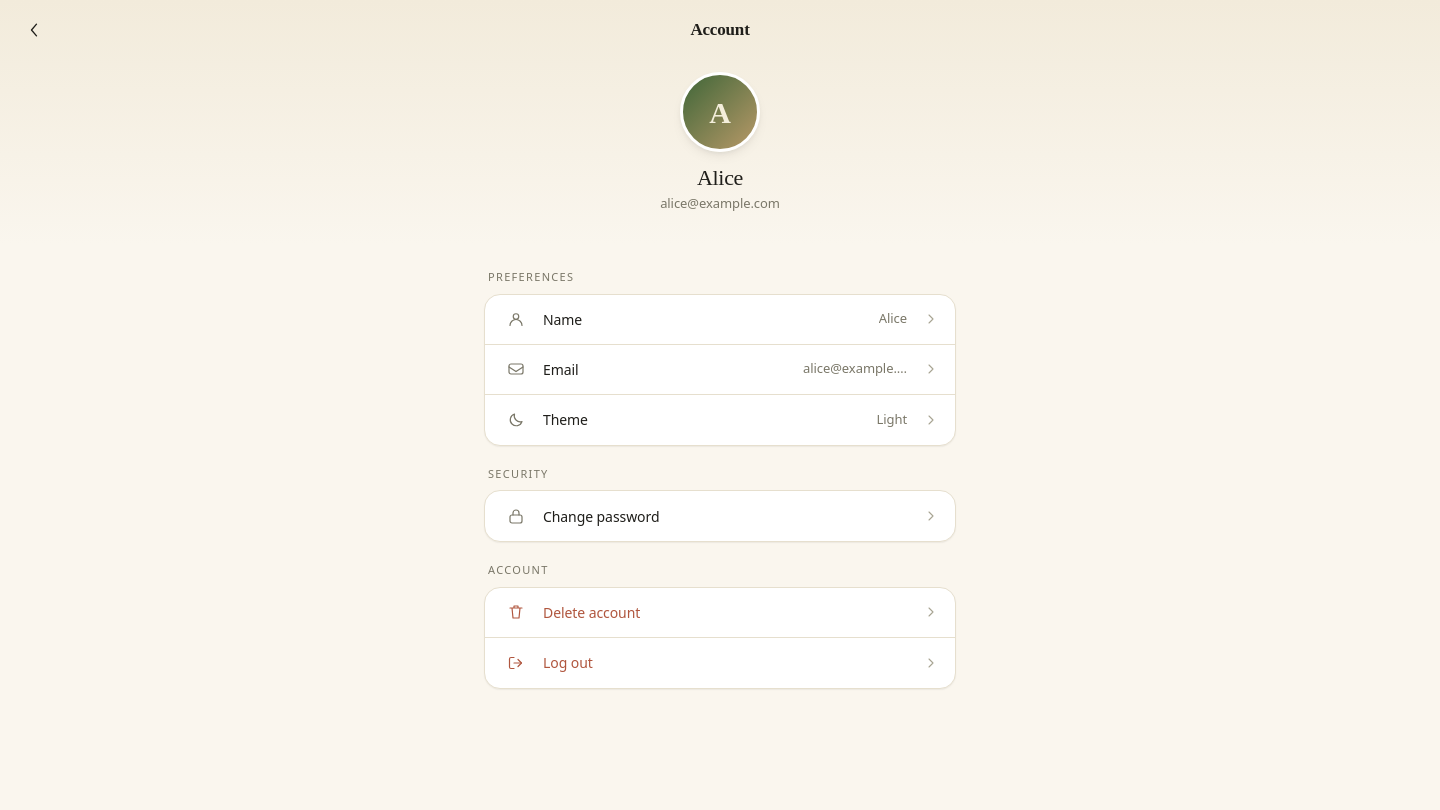
Test: AccountPage › shows error when new passwords do not match
This screenshot has width=1440, height=810.
Click the button "Change password" at [601, 516], box [485,491,955,541]
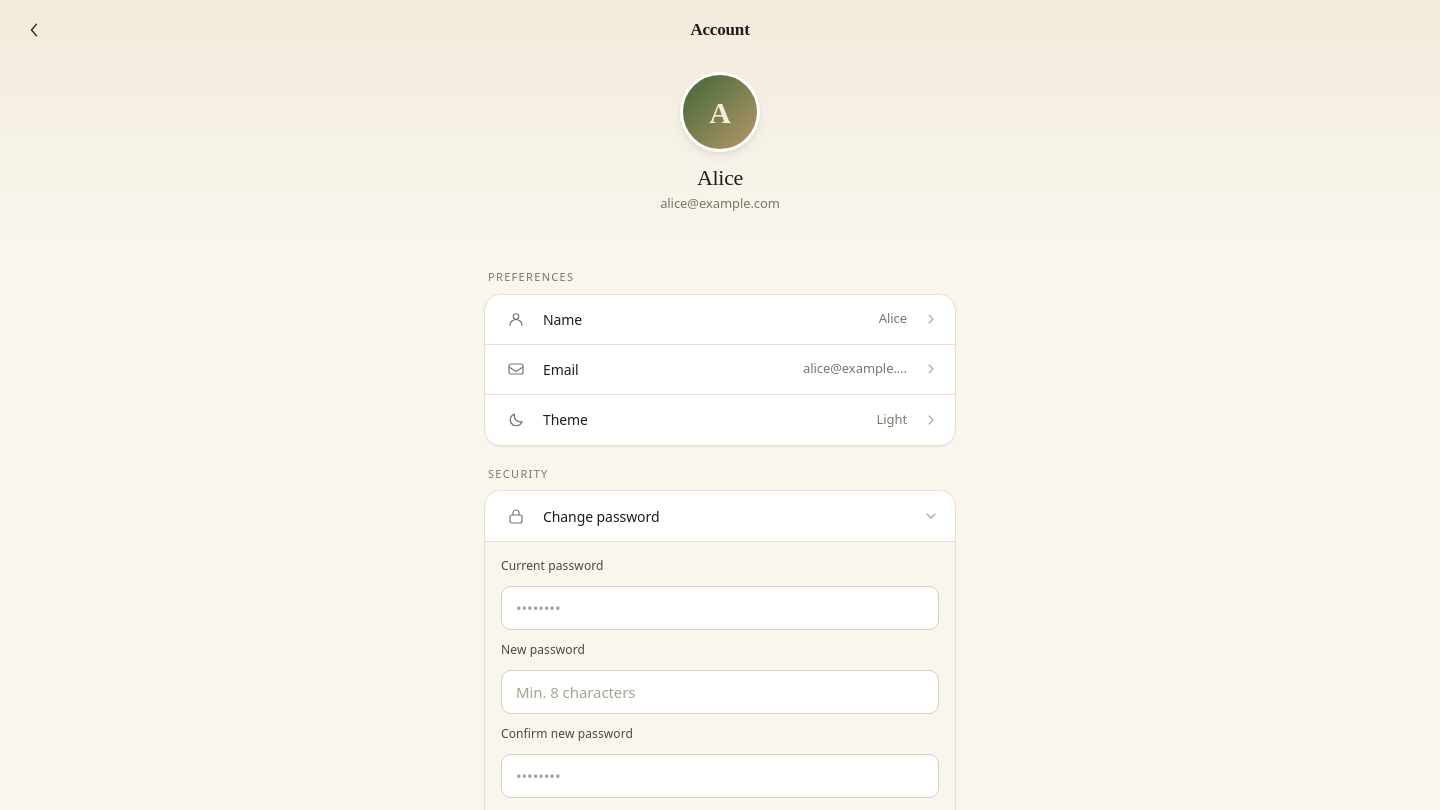
Type "oldpass" into the password field labelled "Current password" at [720, 608], box [501,586,939,630]
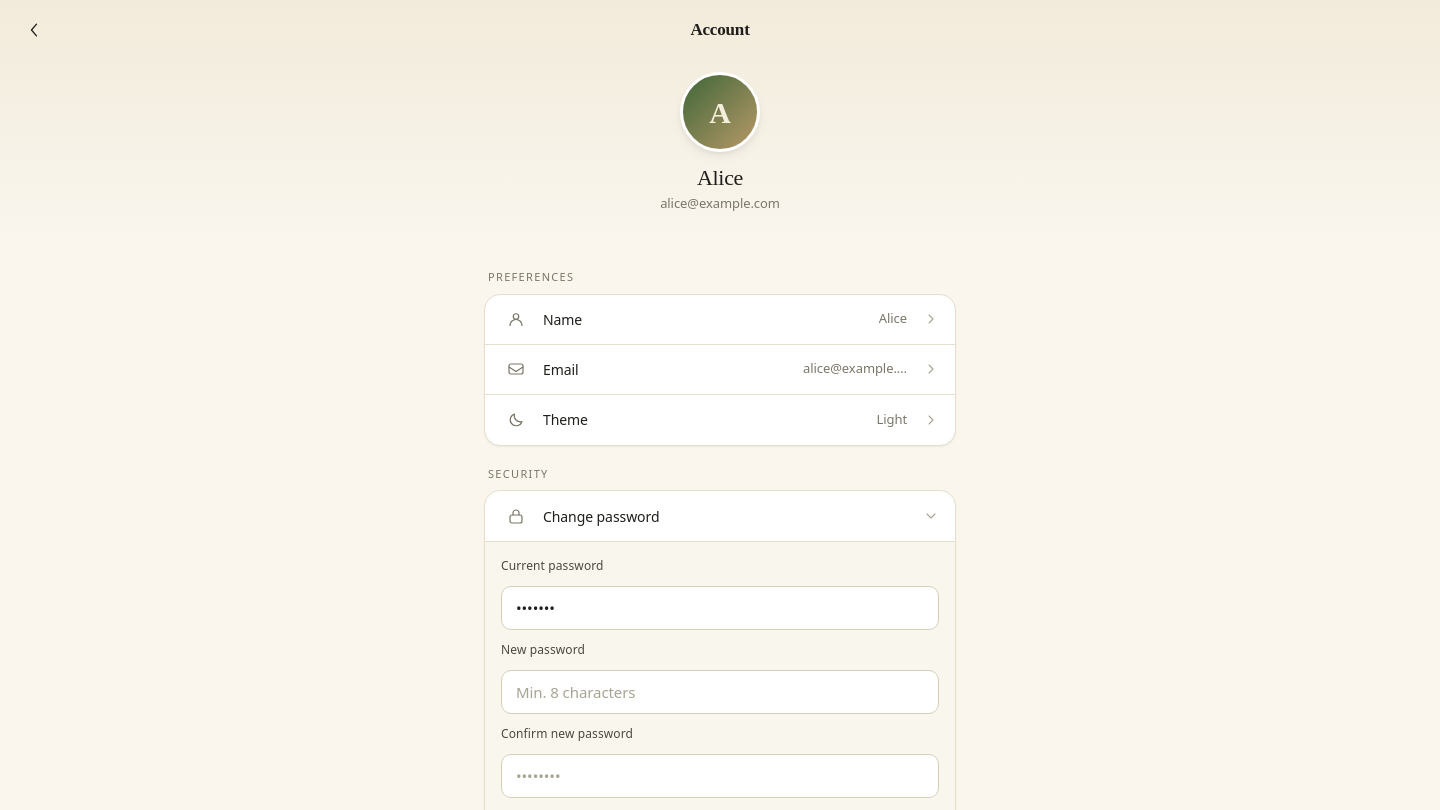
Type "newpass1" into the password field labelled "New password" at [720, 692], box [501,670,939,714]
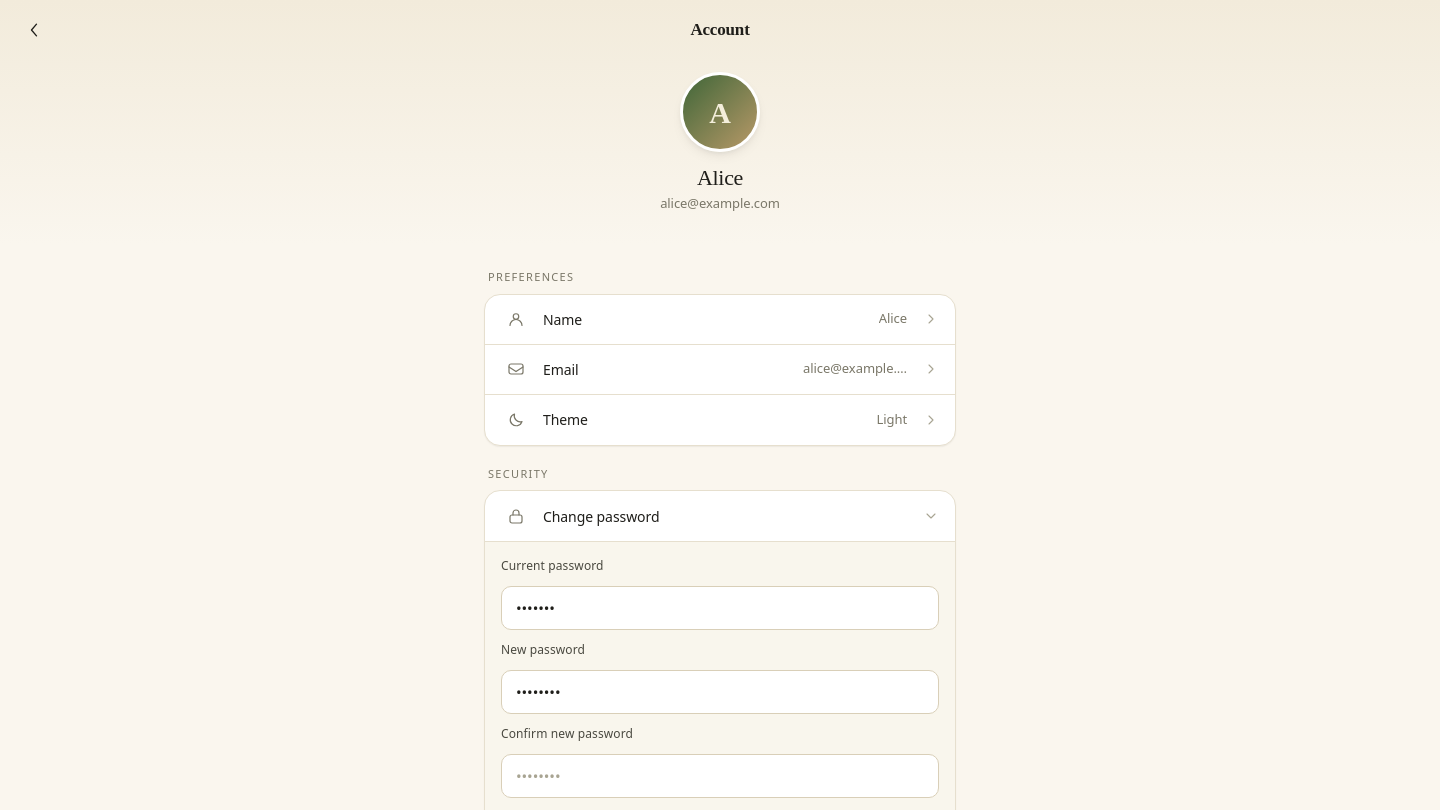
Type "newpass2" into the password field labelled "Confirm new password" at [720, 776], box [501,754,939,798]
(page scrolled)
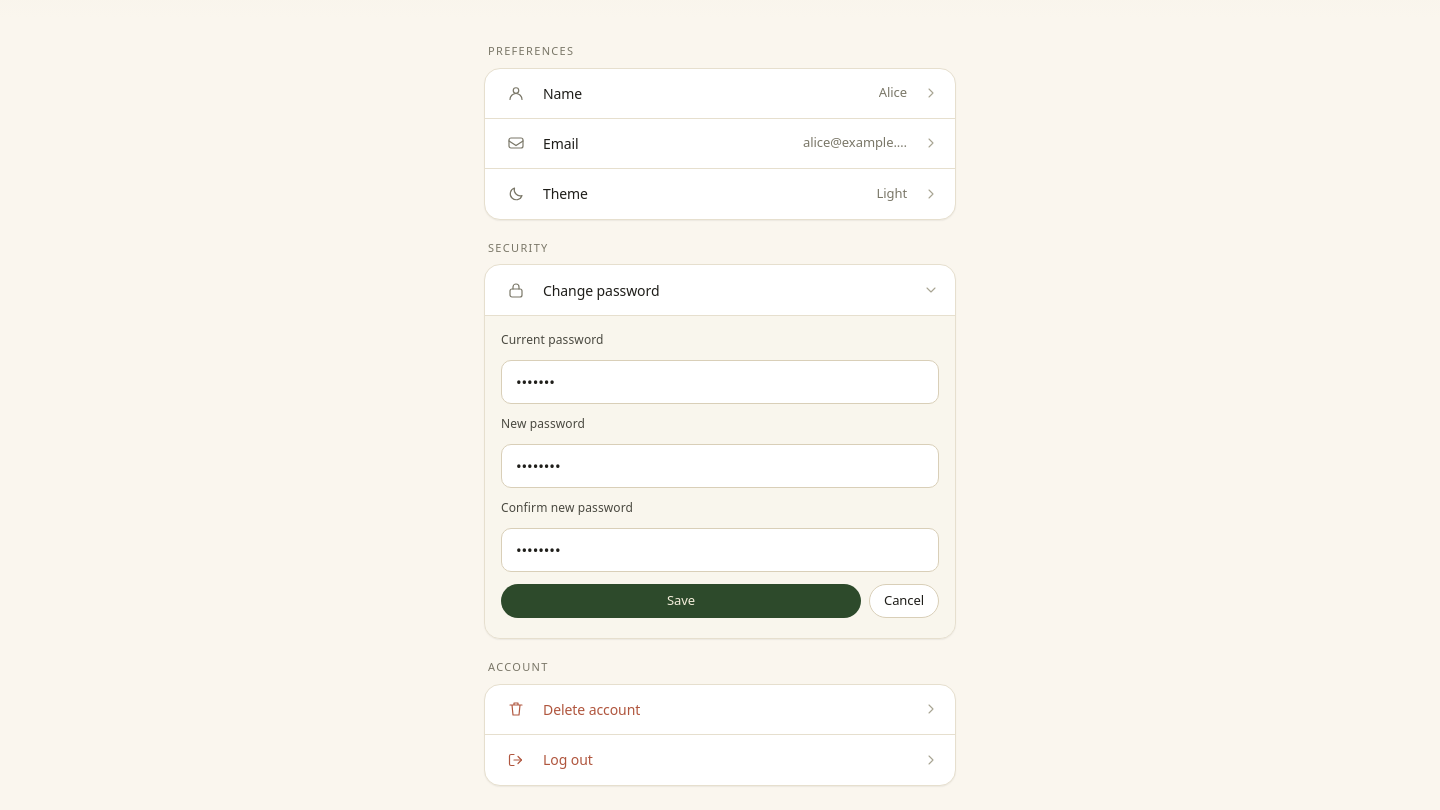
Click the button "Save" at [681, 601], box [501,584,861,618]
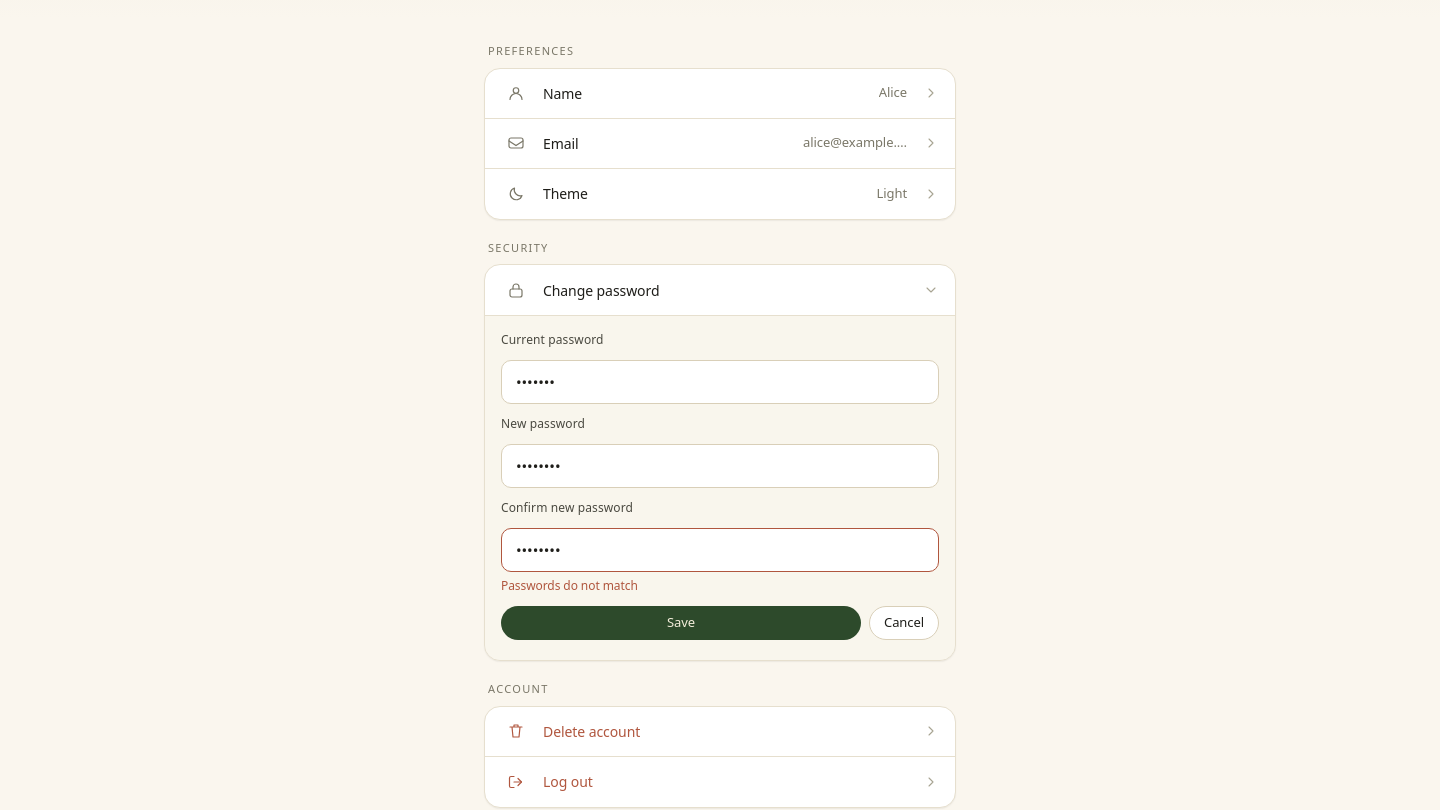
Expected: the text "Passwords do not match" is shown, [501,577,638,594]
